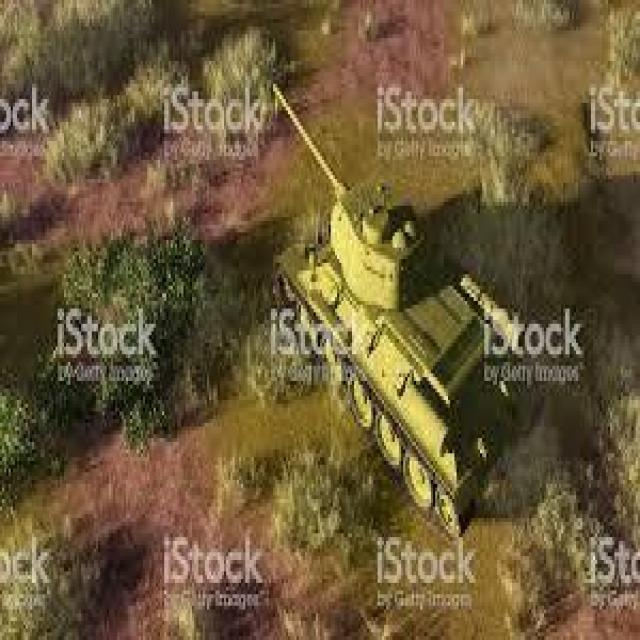Tanks: (241, 48, 561, 584)
